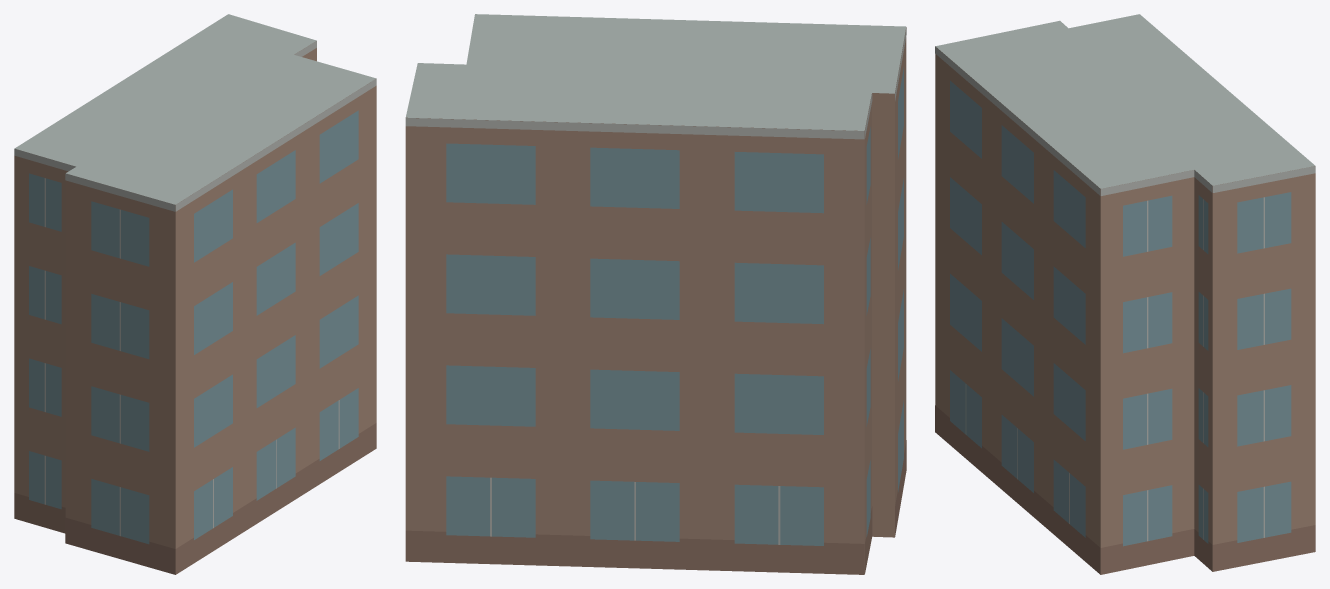
File: survey-upis-32932287.glb
The picture shows the model from 3 angles, left to right: view 1: azimuth 30°, elevation 25°; view 2: azimuth 150°, elevation 25°; view 3: azimuth 270°, elevation 25°; orthographic projection. The views are drawn at different scales.
Visible parts, largest first — view 1: survey-upis-32932287.tmp; view 2: survey-upis-32932287.tmp; view 3: survey-upis-32932287.tmp.
Boxes of the visible parts, x1,y1,x2,y2 form: survey-upis-32932287.tmp: (14,14,376,574); survey-upis-32932287.tmp: (405,14,906,574); survey-upis-32932287.tmp: (935,14,1315,574).
Bounding box in the file's own units: 12.45 × 12.8 × 11.44.
